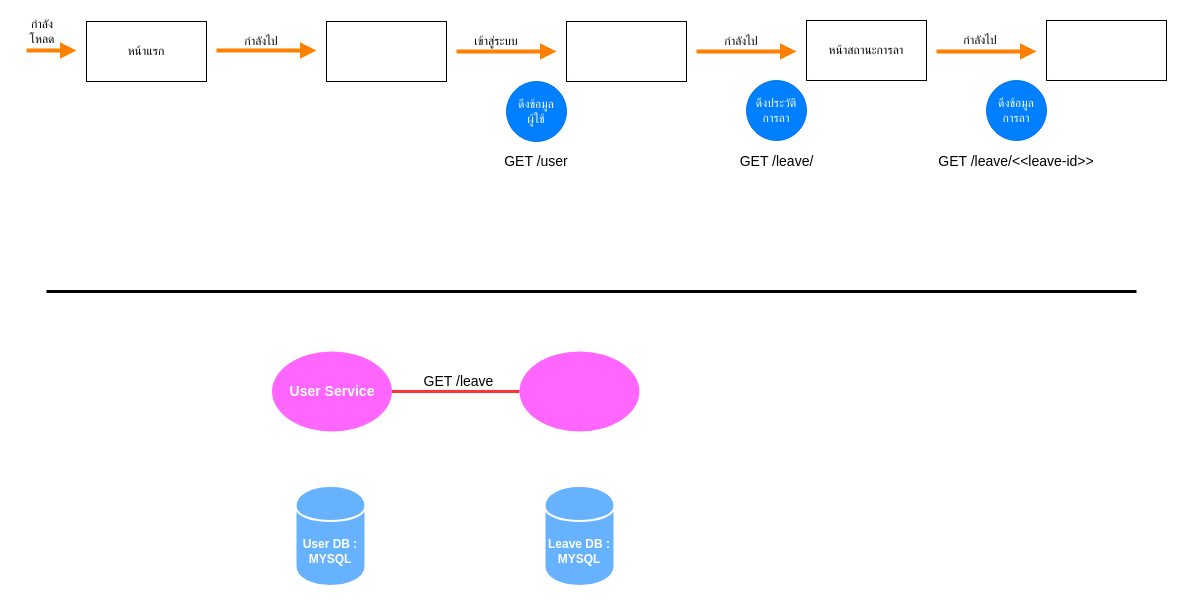
This 1184x604 diagram has some shape labels left out. The shapes that lost their labels are listed below. From the top down, each one's centre as x and y in pixels, then its label:
the point at 386,51: หน้าเข้าสู่ระบบ
the point at 626,51: หน้าเลือก ประเภทการลา
the point at 1106,50: หน้าการลาเมื่อวันที่...
the point at 579,391: Leave Service
